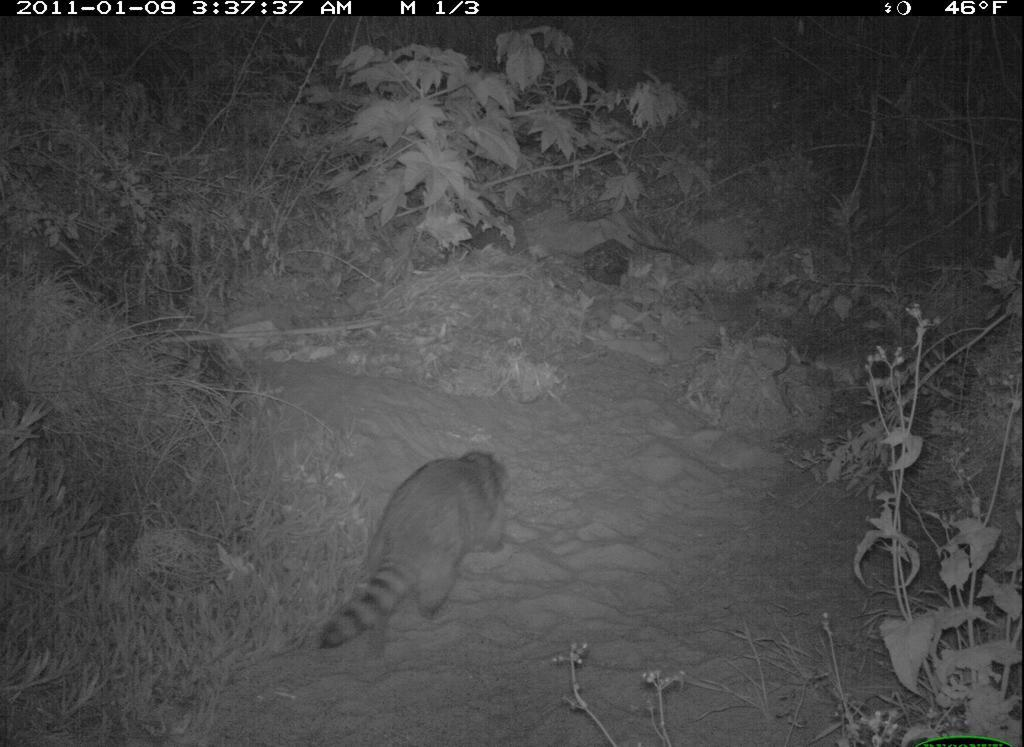raccoon: (303, 433, 530, 667)
